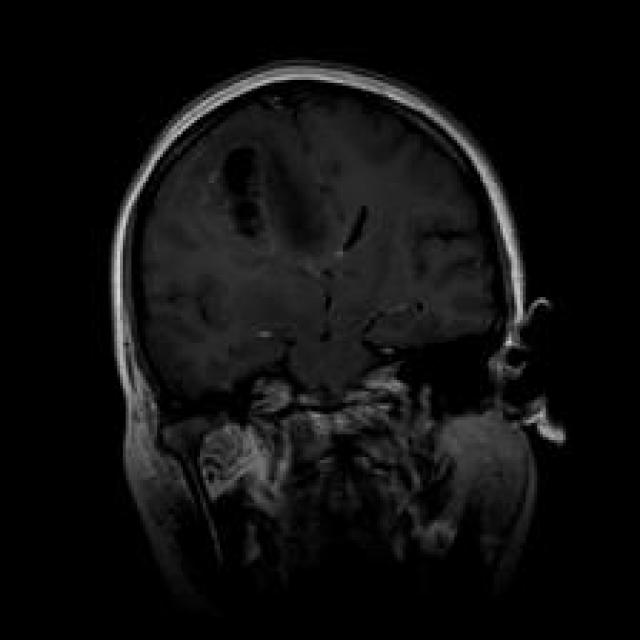glioma_tumor: (208, 125, 350, 292)
